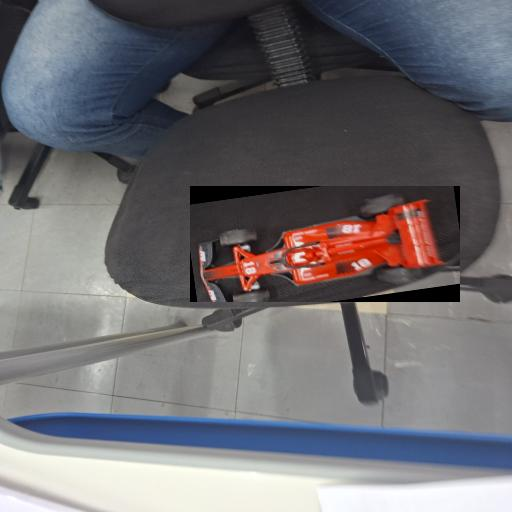carro: (190, 186, 460, 302)
